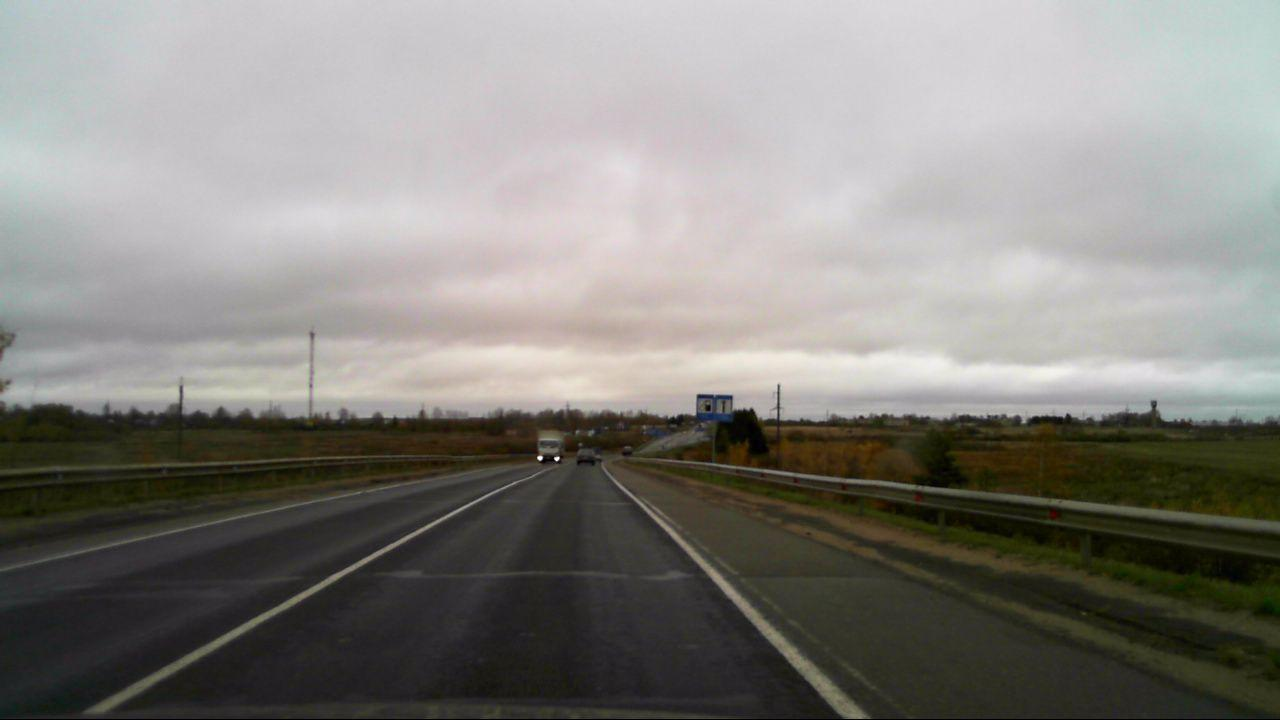7_3: (696, 393, 714, 422)
7_4: (712, 393, 732, 420)
